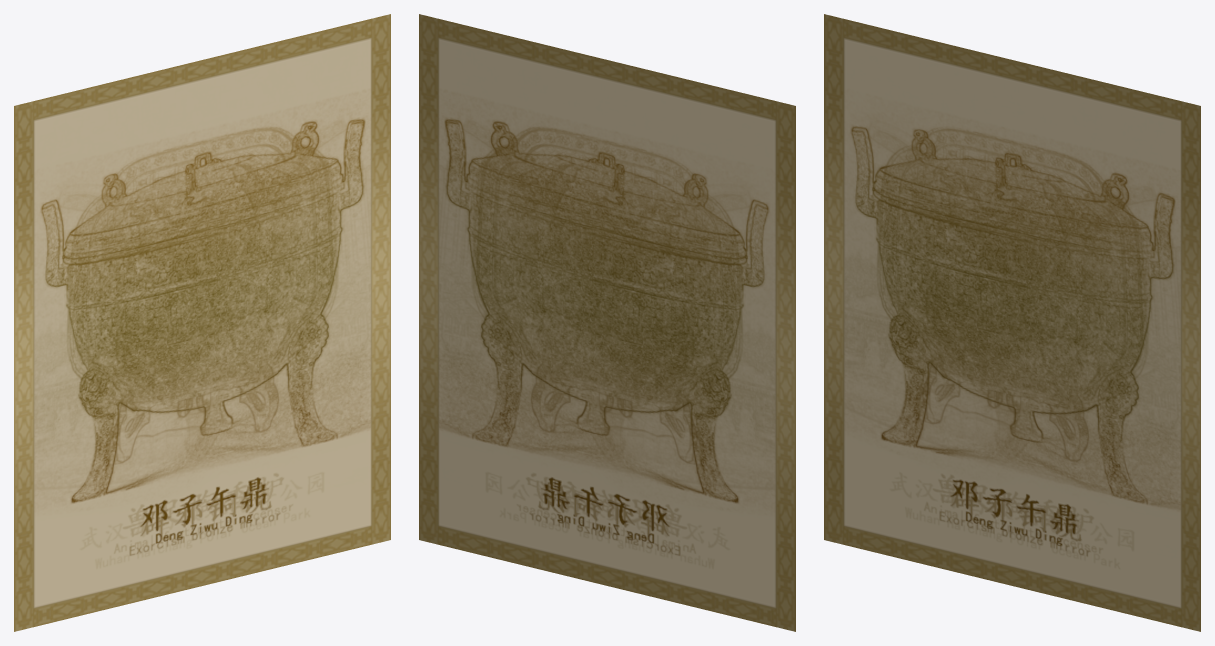
The model's file is Card_p.glb.
3 renders of one model, left to right at view 1: azimuth 30°, elevation 25°; view 2: azimuth 150°, elevation 25°; view 3: azimuth 330°, elevation 25°, orthographic.
Visible parts, largest first — view 1: Card1, Card2, Card3; view 2: Card1, Card2, Card3; view 3: Card1, Card2, Card3.
Part boxes in pixels (x1,y1,x2,y2): Card1: (14, 14, 390, 631); Card2: (34, 39, 370, 607); Card3: (71, 130, 344, 553); Card1: (419, 14, 795, 631); Card2: (439, 39, 775, 607); Card3: (465, 130, 738, 553); Card1: (824, 14, 1200, 631); Card2: (844, 39, 1180, 607); Card3: (880, 131, 1154, 552).
Size of the model in its own units: 1.5 by 2 by 0.
Materials: 10 (10 with a texture image).
